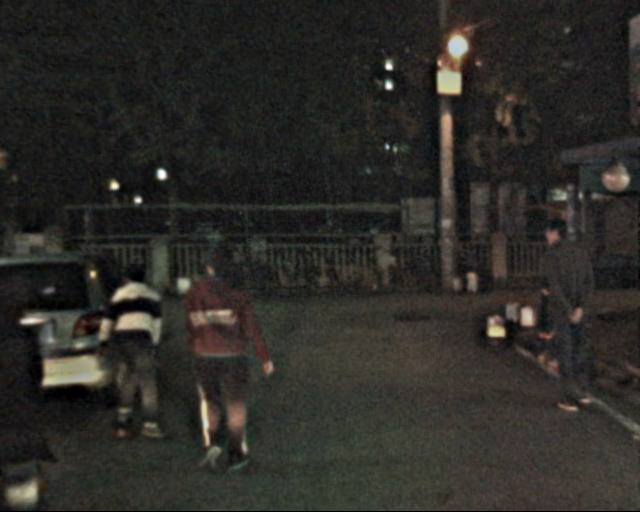person: (175, 240, 271, 477), (531, 209, 607, 427), (1, 258, 59, 512), (103, 255, 177, 440)
